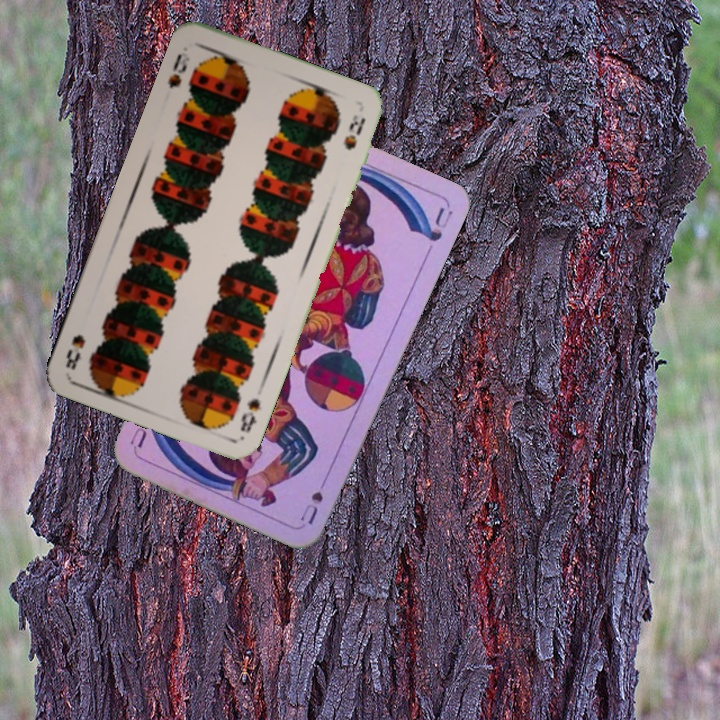S8: (163, 42, 193, 91), (236, 394, 264, 436)
SU: (296, 470, 329, 528)
